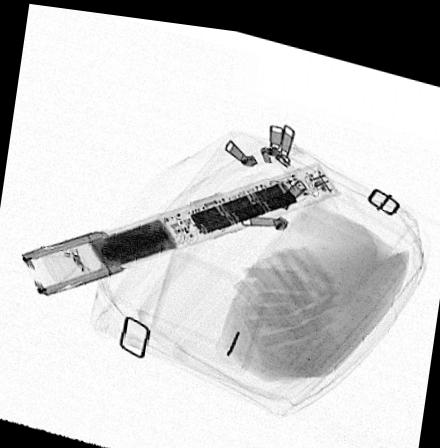Baton: (19, 152, 343, 297)
